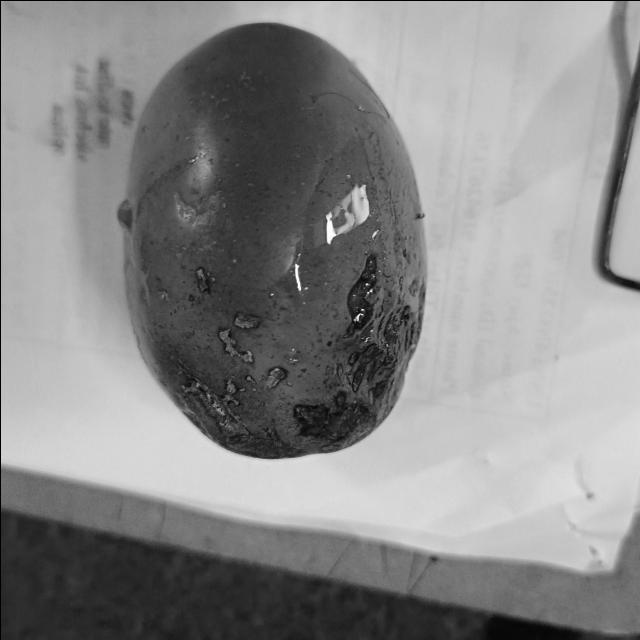Botrytis: (174, 392, 296, 457), (343, 255, 379, 335), (301, 398, 373, 438), (214, 328, 252, 364), (194, 265, 214, 297), (263, 365, 287, 391), (230, 312, 262, 330)
